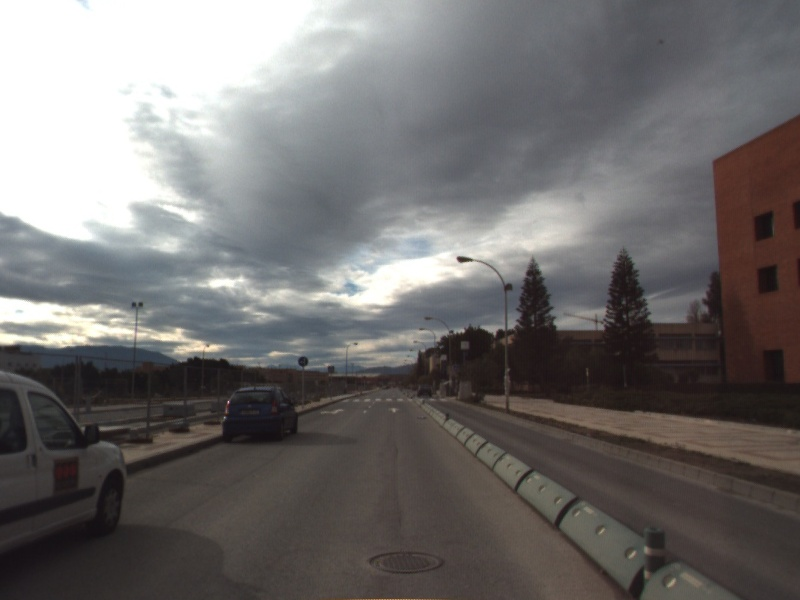STRAIGHT: (387, 406, 402, 414)
STRAIGHT_LEFT: (318, 406, 346, 417)
